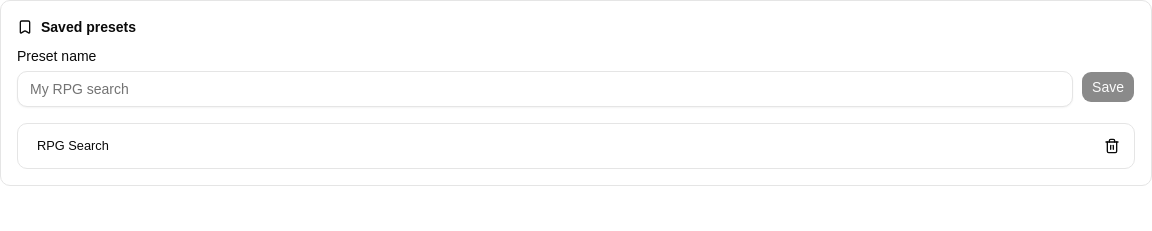
SavedFilterPresets › shows a storage error when deleting fails
Click the button named "Delete RPG Search preset" at (1112, 146), box [1098,132,1126,160]
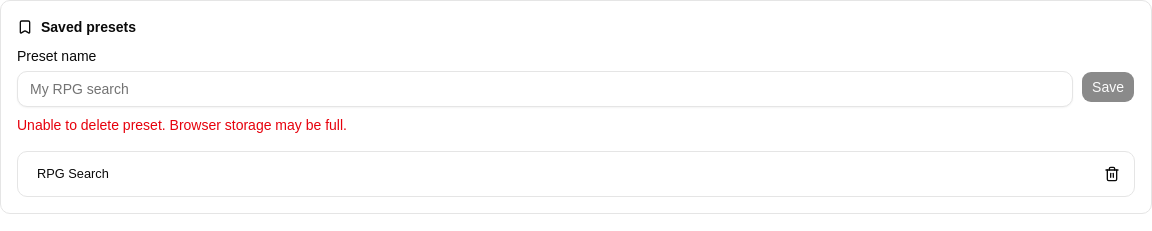
Expected: the message reads "Unable to delete preset. Browser storage may be full.", [17,117,347,133]
